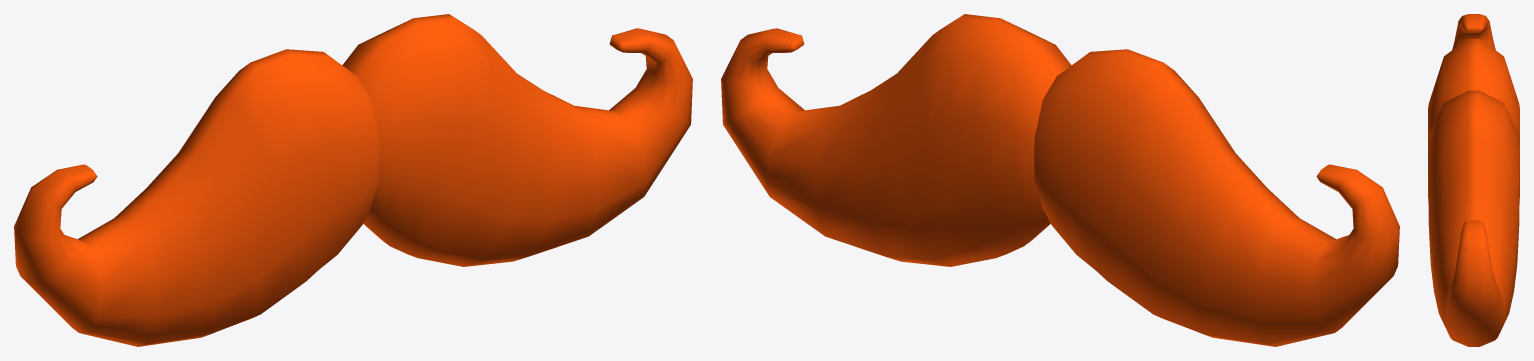
Rendered from Beard_10_06.fbx.
3 renders of one model, left to right at view 1: azimuth 30°, elevation 25°; view 2: azimuth 150°, elevation 25°; view 3: azimuth 270°, elevation 25°, orthographic. The views are drawn at different scales.
Visible parts, largest first — view 1: Beard_10_06; view 2: Beard_10_06; view 3: Beard_10_06.
Boxes of the visible parts, x1=… form: Beard_10_06: x1=14, y1=14, x2=692, y2=346; Beard_10_06: x1=721, y1=14, x2=1399, y2=346; Beard_10_06: x1=1428, y1=14, x2=1519, y2=346.
Bounding box in the file's own units: 18.39 × 6.86 × 2.89.
